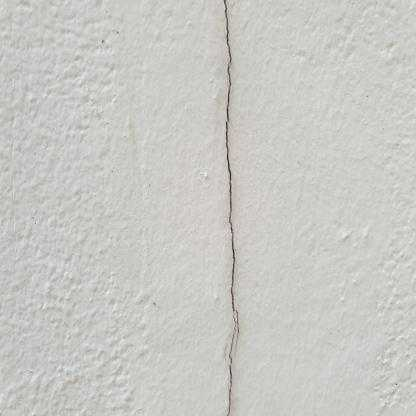crack: (224, 0, 240, 415)
